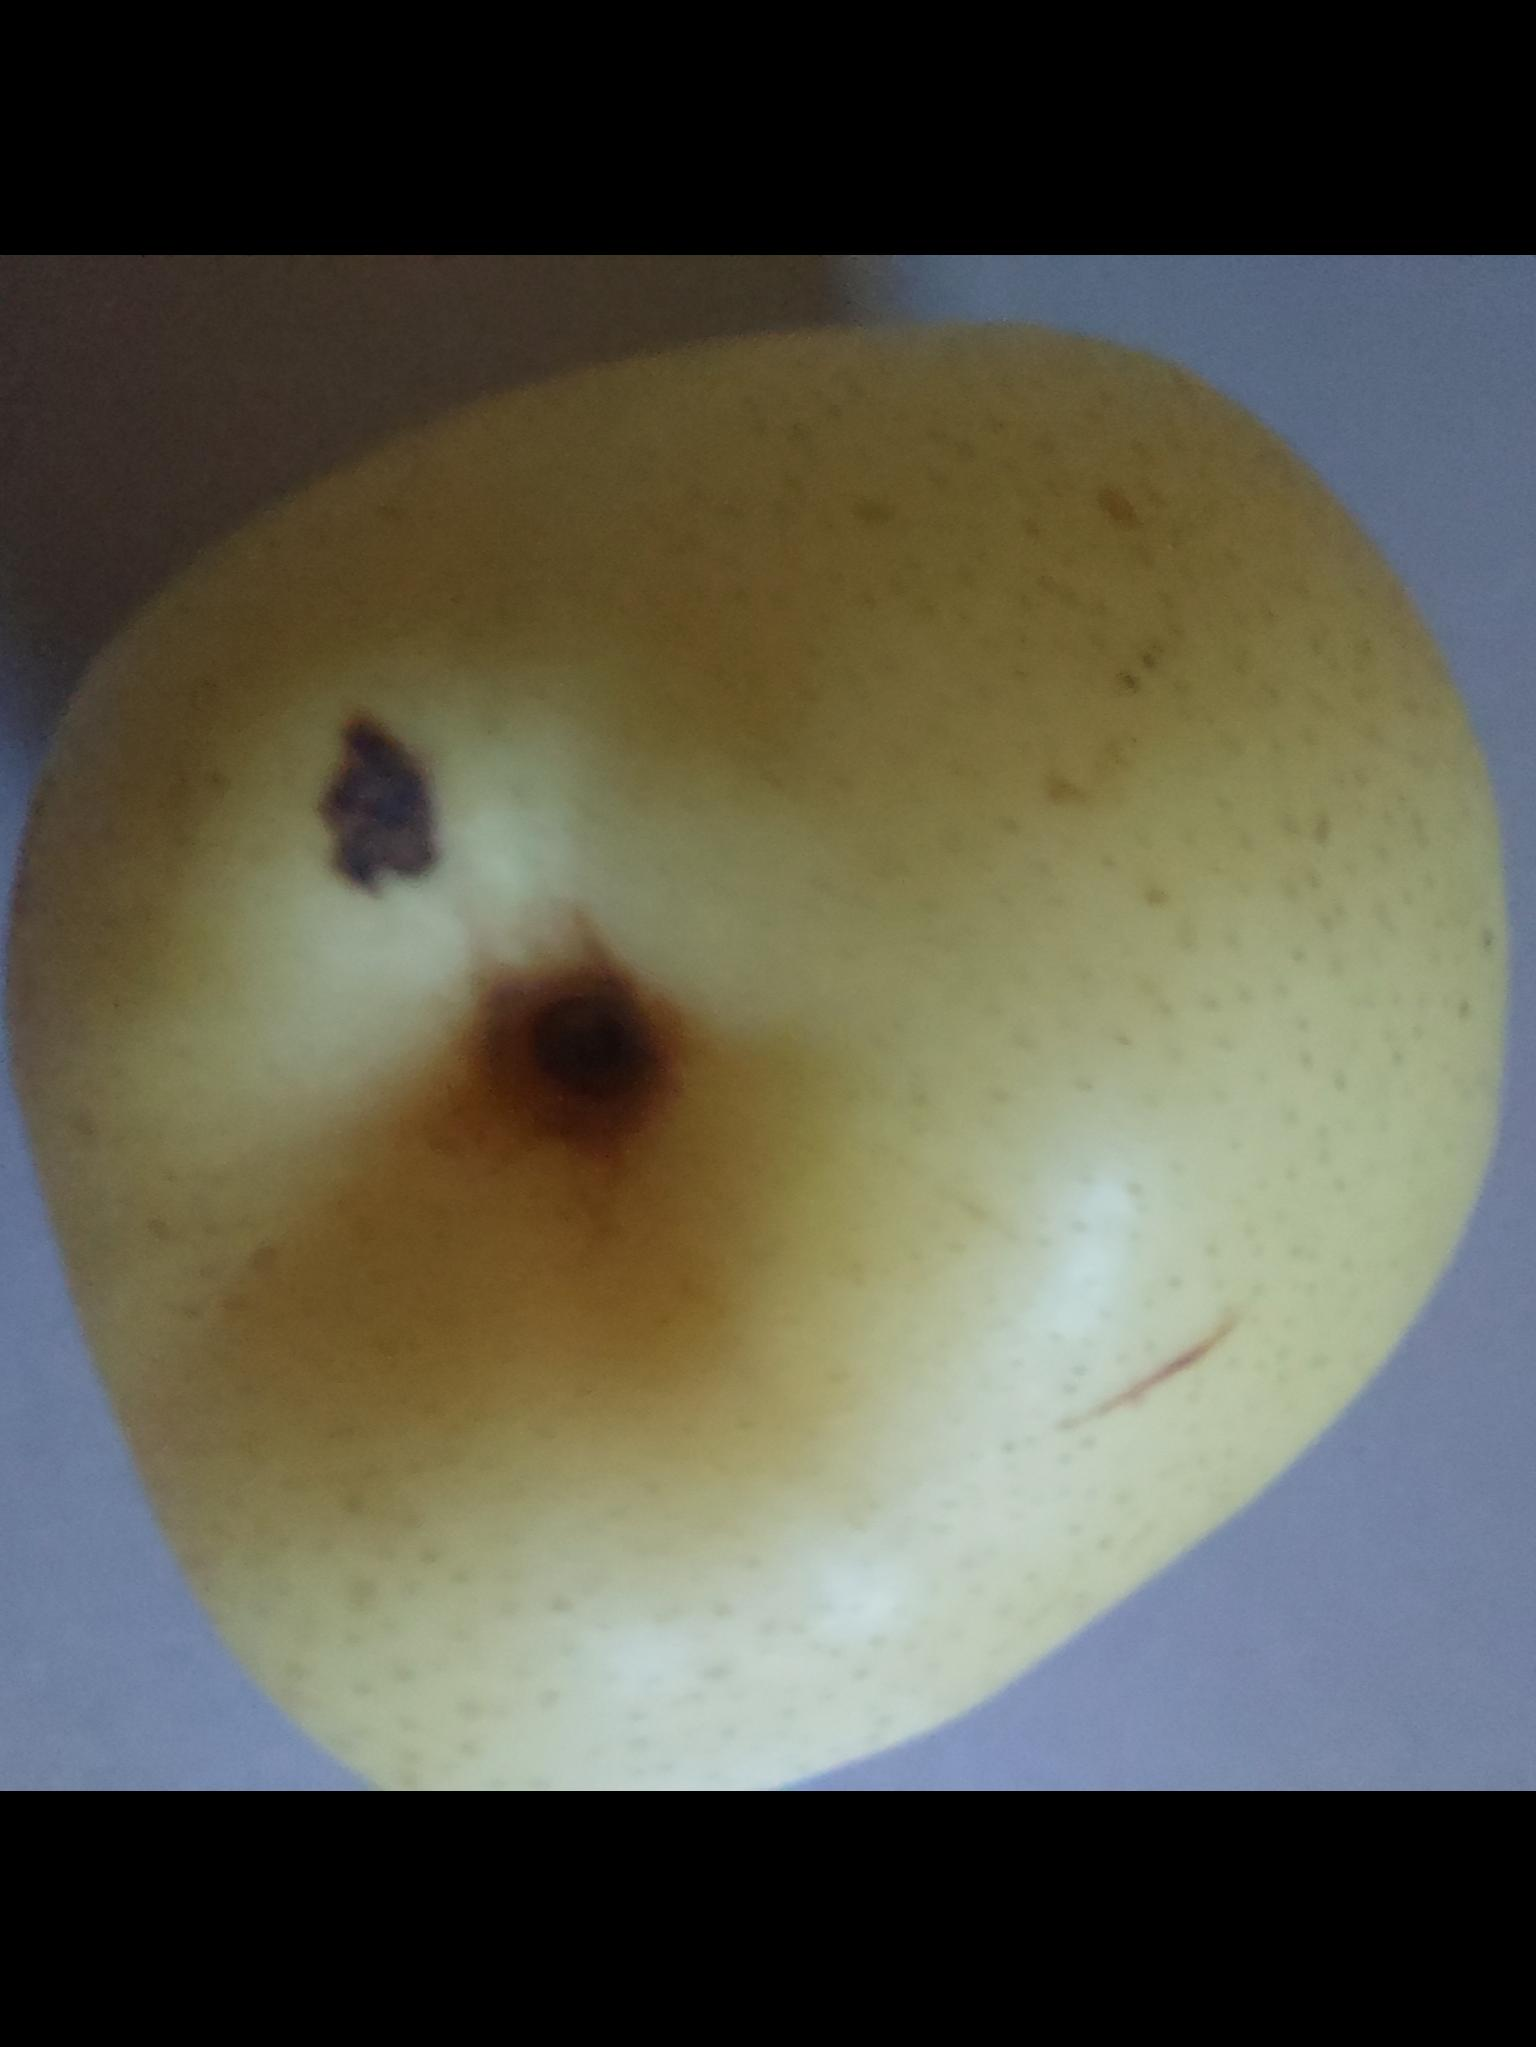Good Pear: (0, 306, 1536, 1792)
